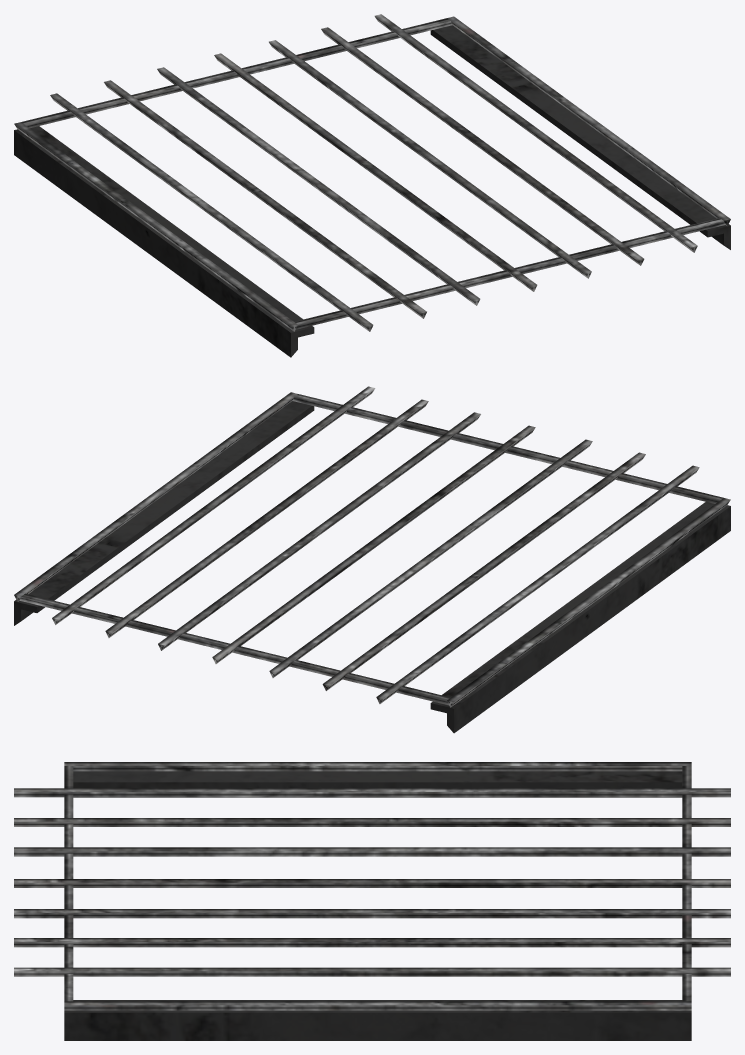
The model's file is GrillLoose.fbx.
3 views of the same model, one above another, from view 1: azimuth 30°, elevation 25°; view 2: azimuth 150°, elevation 25°; view 3: azimuth 270°, elevation 25° (orthographic). The views are drawn at different scales.
Visible parts, largest first — view 1: GrillLoose; view 2: GrillLoose; view 3: GrillLoose.
Part boxes in pixels (bbox=[...]): GrillLoose: bbox=[14, 14, 730, 357]; GrillLoose: bbox=[14, 386, 730, 733]; GrillLoose: bbox=[14, 762, 730, 1040].
Bounding box in the file's own units: 50.64 × 3.77 × 63.09.
